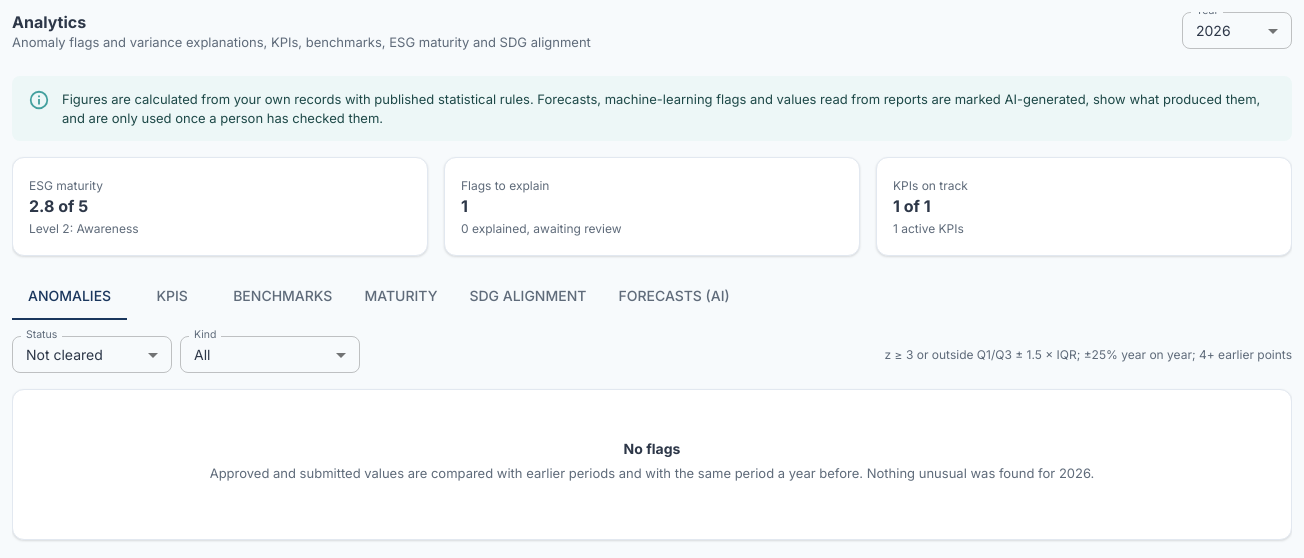
Analytics page › a reader without analytics:create sees no scan or KPI buttons
The image size is (1304, 558).
Expected: the heading "No flags" is shown, [624, 440, 680, 457]
Click the tab "KPIs". click: point(172, 296)
box: [127, 272, 217, 320]
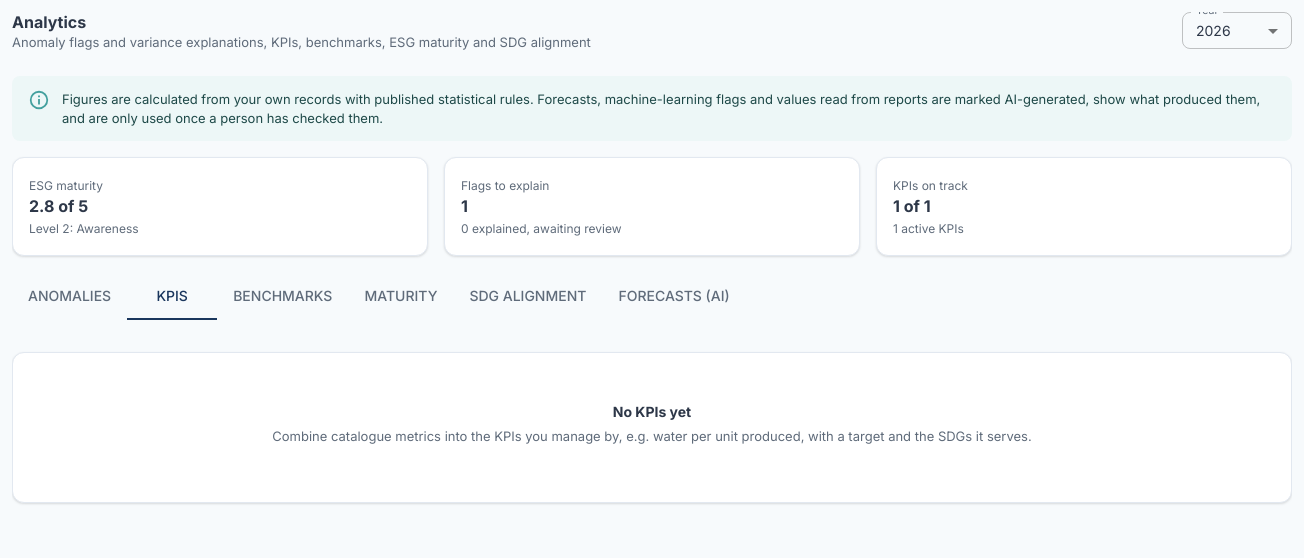
Result: the heading "No KPIs yet" is shown at [613, 403, 691, 420]
